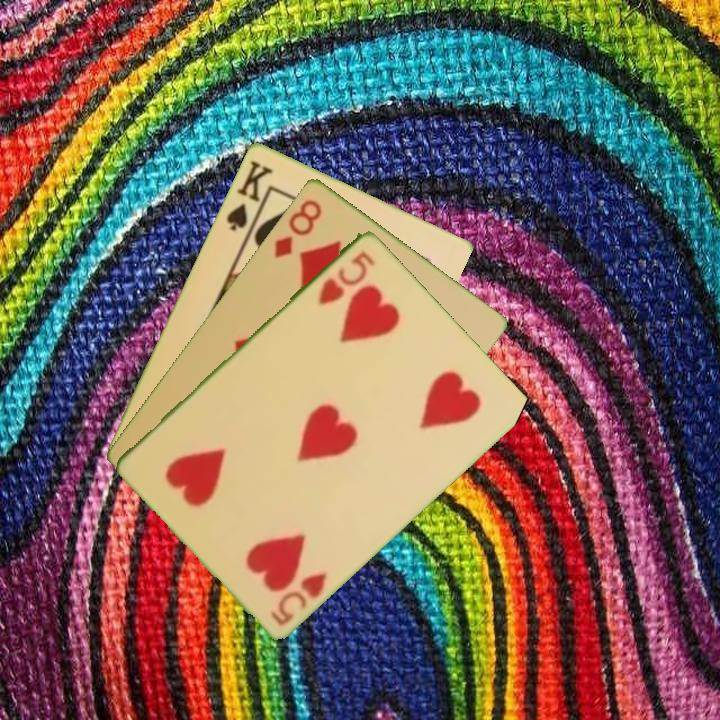5h: (266, 568, 331, 629), (314, 247, 379, 307)
8d: (270, 195, 325, 261)
Ks: (222, 156, 276, 233)
